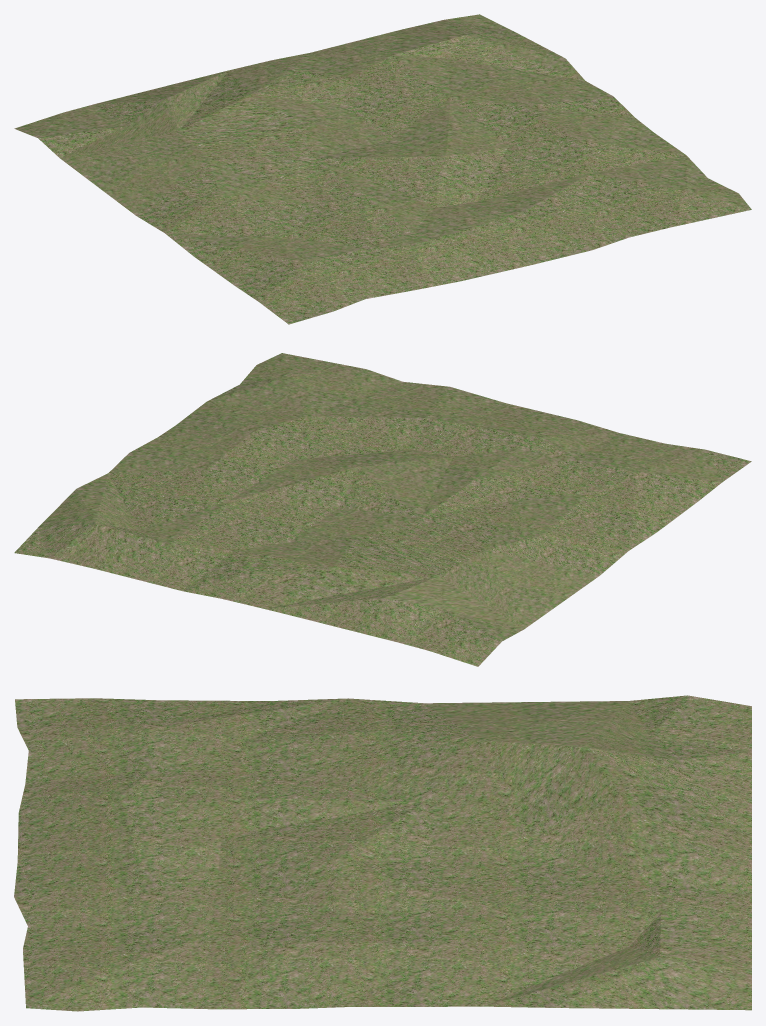
The model's file is ground_plane.fbx.
The picture shows the model from 3 angles, top to bottom: view 1: azimuth 30°, elevation 25°; view 2: azimuth 150°, elevation 25°; view 3: azimuth 270°, elevation 25°; orthographic projection. The views are drawn at different scales.
Parts seen in each view (by area): view 1: ground_plane; view 2: ground_plane; view 3: ground_plane.
Boxes of the visible parts, x1=… form: ground_plane: x1=14, y1=14, x2=751, y2=324; ground_plane: x1=14, y1=353, x2=751, y2=666; ground_plane: x1=14, y1=695, x2=751, y2=1011.
Bounding box in the file's own units: 4048 × 165 × 4040.
